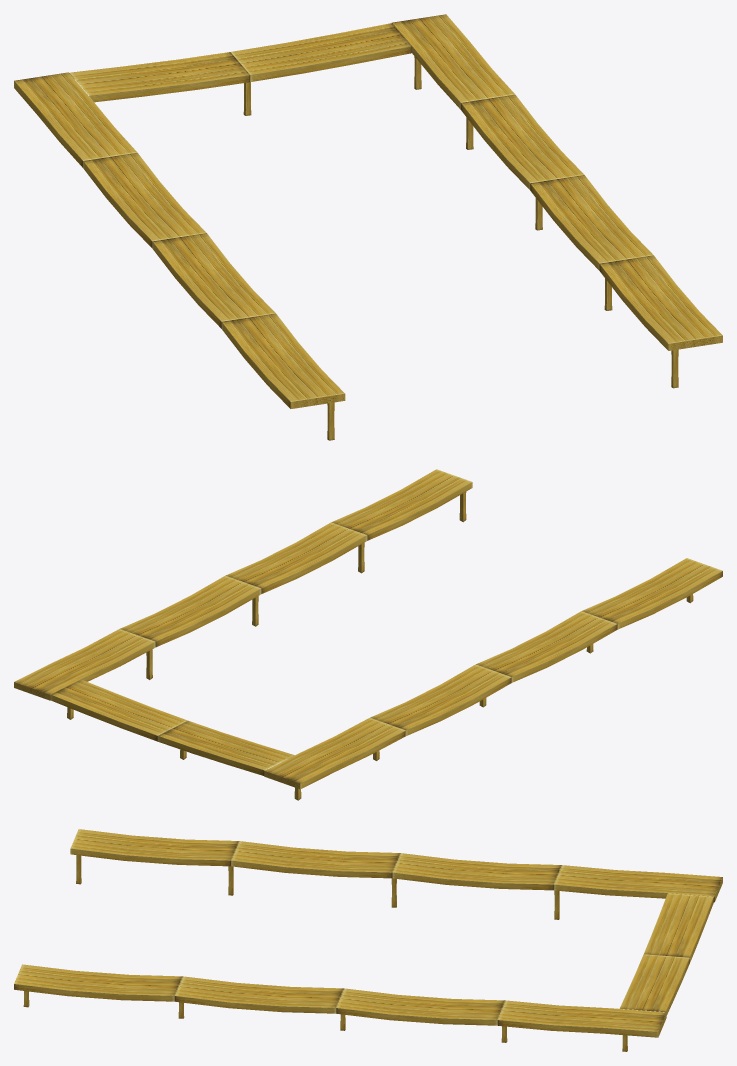
The model's file is HTOWN01_CHICKENTABLE.fbx.
The picture shows the model from 3 angles, top to bottom: view 1: azimuth 30°, elevation 25°; view 2: azimuth 150°, elevation 25°; view 3: azimuth 270°, elevation 25°; orthographic projection. The views are drawn at different scales.
Visible parts, largest first — view 1: HTOWN01_CHICKENTABLE; view 2: HTOWN01_CHICKENTABLE; view 3: HTOWN01_CHICKENTABLE.
Part boxes in pixels (box(x1,y1,x2,y2)): HTOWN01_CHICKENTABLE: box(14, 14, 722, 440); HTOWN01_CHICKENTABLE: box(14, 469, 722, 800); HTOWN01_CHICKENTABLE: box(14, 829, 722, 1051).
Bounding box in the file's own units: 75477 × 6754 × 111469.
1 material, 1 textured.
